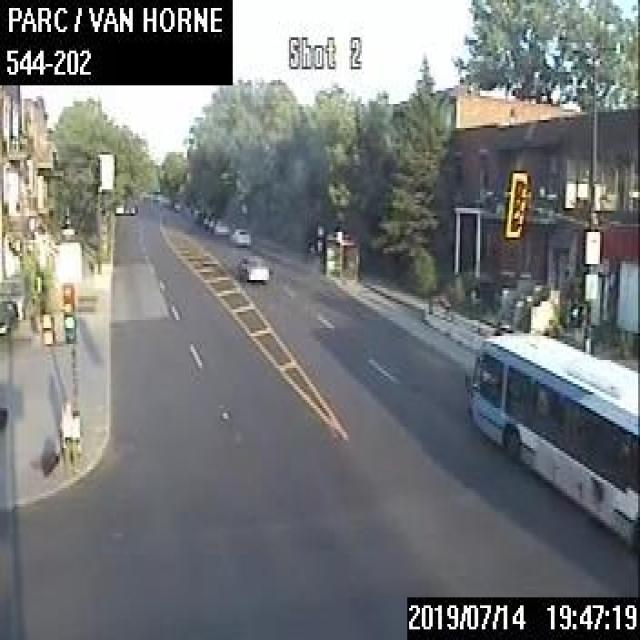bus: (464, 326, 638, 550)
pedestrian: (57, 400, 72, 469), (71, 406, 82, 468)
vehicle: (237, 254, 268, 278), (0, 297, 18, 335), (228, 226, 250, 244), (212, 215, 230, 232), (202, 209, 213, 229), (208, 214, 220, 228)
